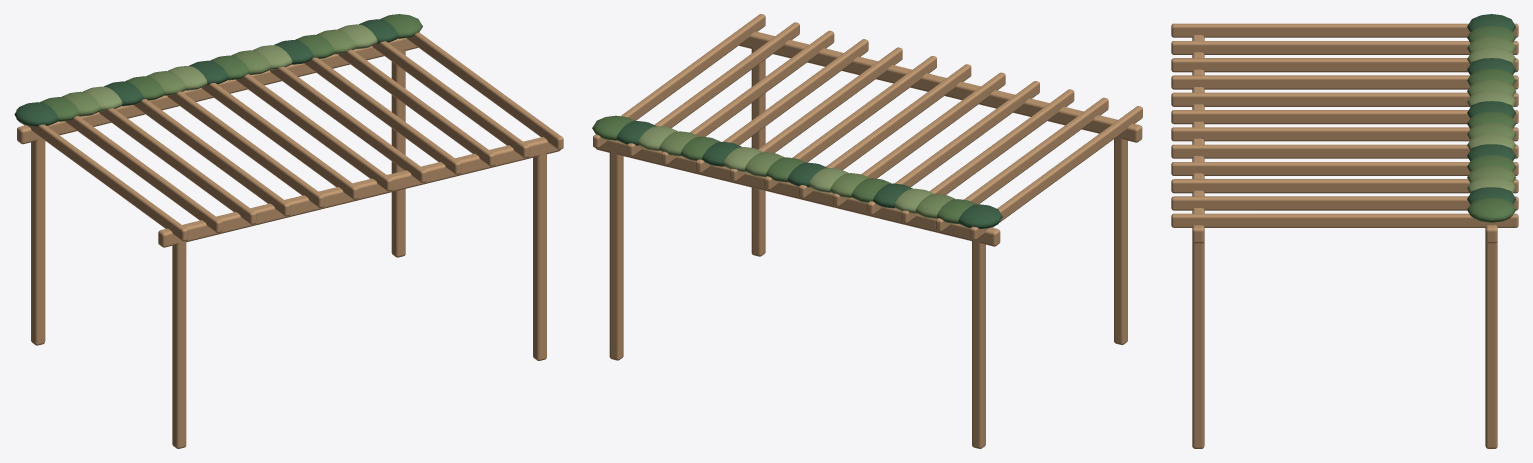
Rendered from pergola.glb.
3 views of the same model, side by side, from view 1: azimuth 30°, elevation 25°; view 2: azimuth 150°, elevation 25°; view 3: azimuth 270°, elevation 25° (orthographic). The views are drawn at different scales.
Parts seen in each view (by area): view 1: pergola; view 2: pergola; view 3: pergola.
Part boxes in pixels (left/top/right/bottom): pergola: left=14, top=14, right=563, bottom=448; pergola: left=592, top=14, right=1142, bottom=448; pergola: left=1171, top=14, right=1518, bottom=448.
Bounding box in the file's own units: 6.25 × 3.51 × 4.5.
